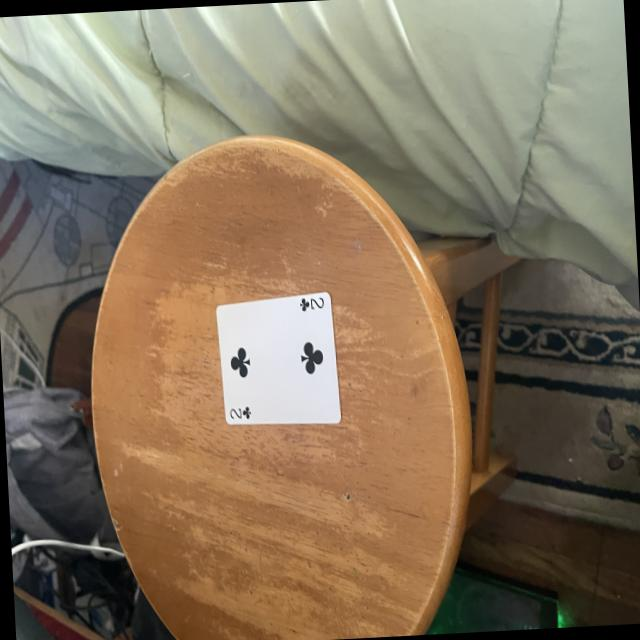3 of clubs: (210, 272, 356, 432)
